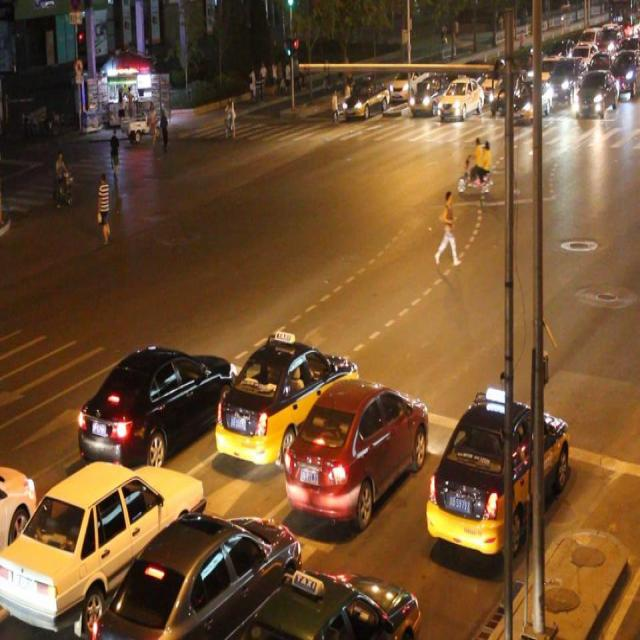car: (0, 450, 208, 636), (416, 382, 584, 589), (110, 501, 299, 640), (72, 313, 232, 473), (291, 384, 440, 551), (201, 334, 327, 459), (245, 573, 445, 640), (496, 63, 553, 133), (426, 71, 492, 130), (335, 75, 399, 122), (578, 63, 626, 124), (395, 70, 448, 121), (545, 49, 588, 99), (615, 34, 640, 102)
